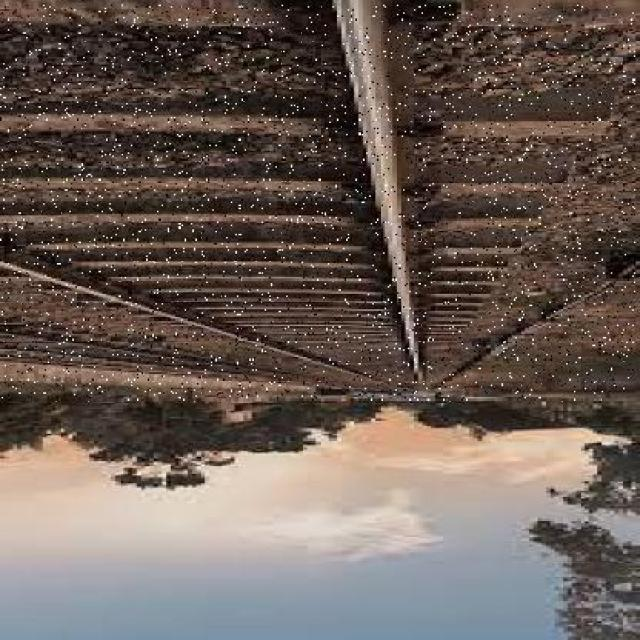rail: (1, 5, 635, 400)
